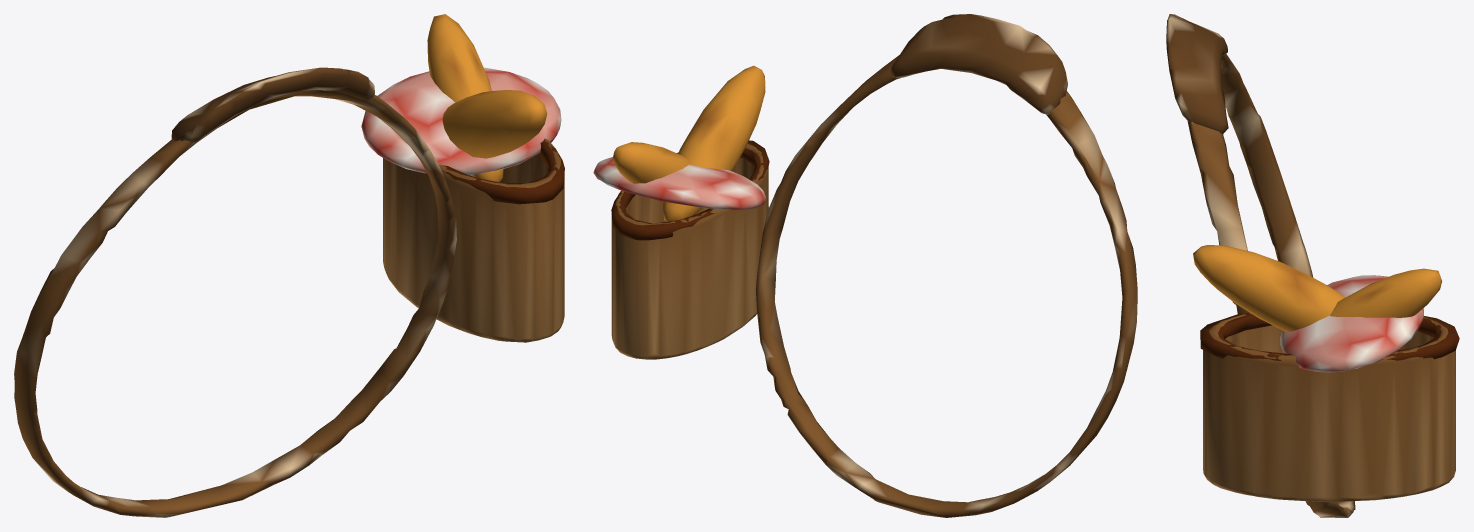
The model's file is giomay.glb.
The picture shows the model from 3 angles, left to right: view 1: azimuth 30°, elevation 25°; view 2: azimuth 150°, elevation 25°; view 3: azimuth 270°, elevation 25°; orthographic projection. The views are drawn at different scales.
Visible parts, largest first — view 1: Gio_May, Quai, Nap_Vai, Banh_1, Dem_Vai, Banh_2, Vanh_Gio; view 2: Gio_May, Quai, Dem_Vai, Banh_1, Nap_Vai, Vanh_Gio, Banh_2; view 3: Gio_May, Quai, Banh_1, Nap_Vai, Dem_Vai, Banh_2, Vanh_Gio.
Part boxes in pixels (x1=…): Gio_May: x1=383, y1=138, x2=564, y2=342; Quai: x1=14, y1=89, x2=456, y2=517; Nap_Vai: x1=361, y1=67, x2=561, y2=175; Banh_1: x1=442, y1=90, x2=547, y2=158; Dem_Vai: x1=171, y1=67, x2=374, y2=142; Banh_2: x1=427, y1=14, x2=503, y2=182; Vanh_Gio: x1=442, y1=140, x2=564, y2=204; Gio_May: x1=611, y1=143, x2=768, y2=359; Quai: x1=756, y1=55, x2=1137, y2=517; Dem_Vai: x1=890, y1=14, x2=1067, y2=114; Banh_1: x1=662, y1=65, x2=765, y2=221; Nap_Vai: x1=593, y1=157, x2=765, y2=209; Vanh_Gio: x1=611, y1=140, x2=769, y2=240; Banh_2: x1=613, y1=142, x2=689, y2=183; Gio_May: x1=1203, y1=313, x2=1455, y2=502; Quai: x1=1187, y1=54, x2=1355, y2=517; Banh_1: x1=1193, y1=245, x2=1345, y2=332; Nap_Vai: x1=1280, y1=275, x2=1423, y2=372; Dem_Vai: x1=1166, y1=14, x2=1228, y2=133; Banh_2: x1=1330, y1=268, x2=1442, y2=317; Vanh_Gio: x1=1200, y1=313, x2=1459, y2=360.
Bounding box in the file's own units: 0.3217 × 0.2691 × 0.153.
